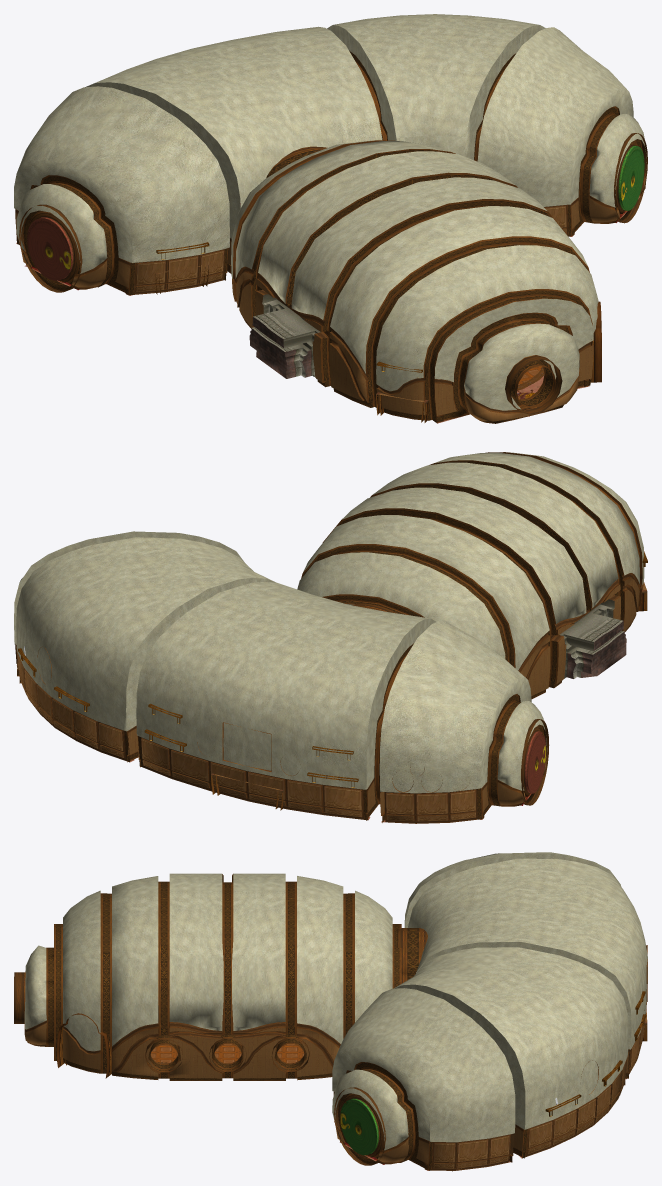
Rendered from BAGENDINTERIOR_BE_BAGEND.obj.
The picture shows the model from 3 angles, top to bottom: view 1: azimuth 30°, elevation 25°; view 2: azimuth 150°, elevation 25°; view 3: azimuth 270°, elevation 25°; orthographic projection. The views are drawn at different scales.
Parts seen in each view (by area): view 1: BE_BagEnd; view 2: BE_BagEnd; view 3: BE_BagEnd.
Boxes of the visible parts, <box> form: BE_BagEnd: <box>14,14,647,423</box>; BE_BagEnd: <box>14,452,647,823</box>; BE_BagEnd: <box>14,852,647,1171</box>.
Bounding box in the file's own units: 1182 × 333 × 1303.
